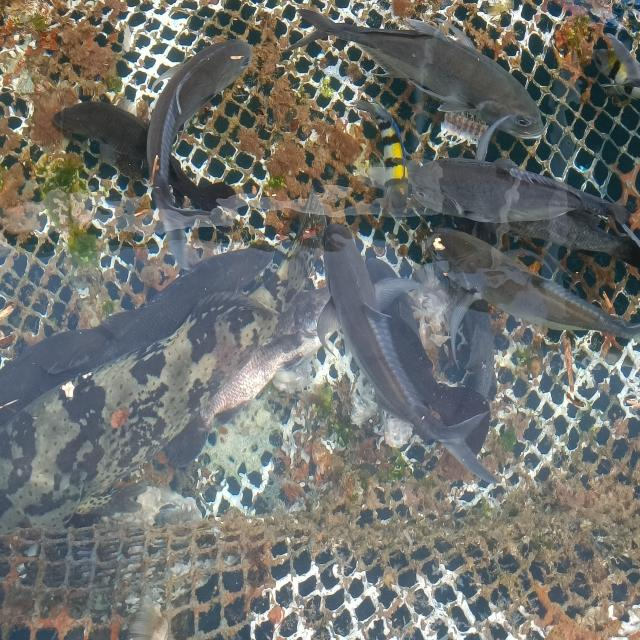ikan: (310, 6, 560, 148), (120, 25, 275, 202), (306, 207, 419, 438), (403, 152, 631, 232)
